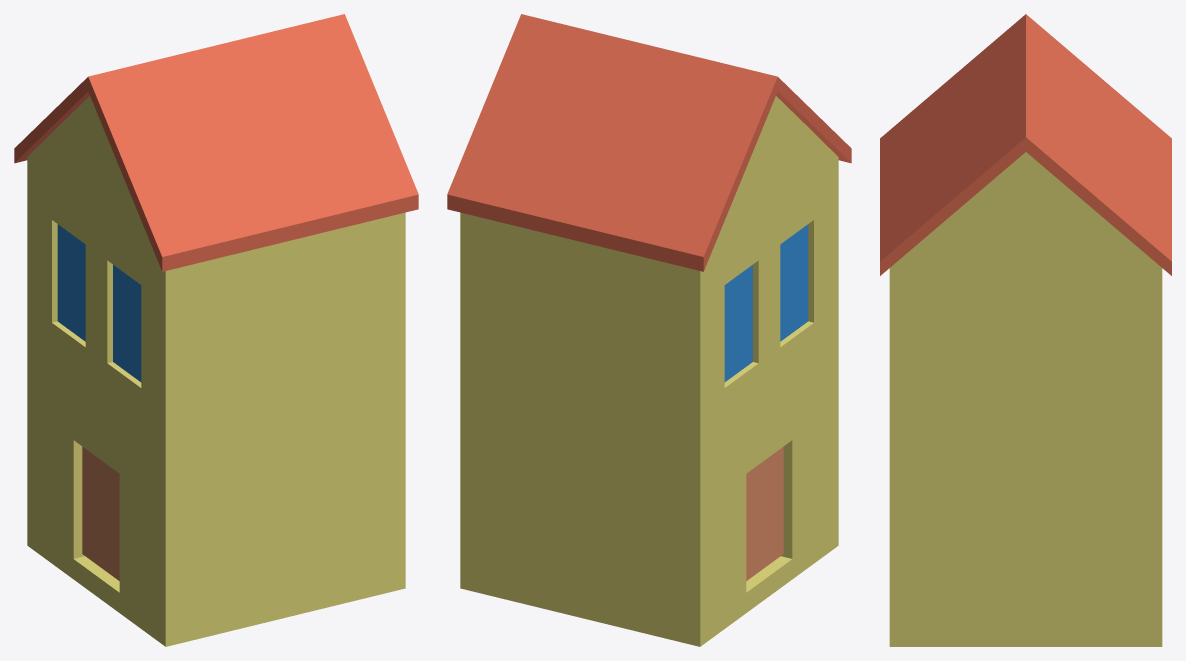
File: House.fbx
3 views of the same model, side by side, from view 1: azimuth 30°, elevation 25°; view 2: azimuth 150°, elevation 25°; view 3: azimuth 270°, elevation 25° (orthographic).
Visible parts, largest first — view 1: Cube.001, Cube.002, Door; view 2: Cube.001, Cube.002, Door; view 3: Cube.001, Cube.002.
Boxes of the visible parts, x1,y1,x2,y2 form: Cube.001: (27, 96, 405, 646); Cube.002: (14, 14, 418, 271); Door: (82, 446, 119, 580); Cube.001: (460, 96, 838, 646); Cube.002: (447, 14, 851, 271); Door: (746, 446, 783, 580); Cube.001: (889, 152, 1162, 646); Cube.002: (880, 14, 1171, 275).
Size of the model in its own units: 1069 by 2078 by 1069.
